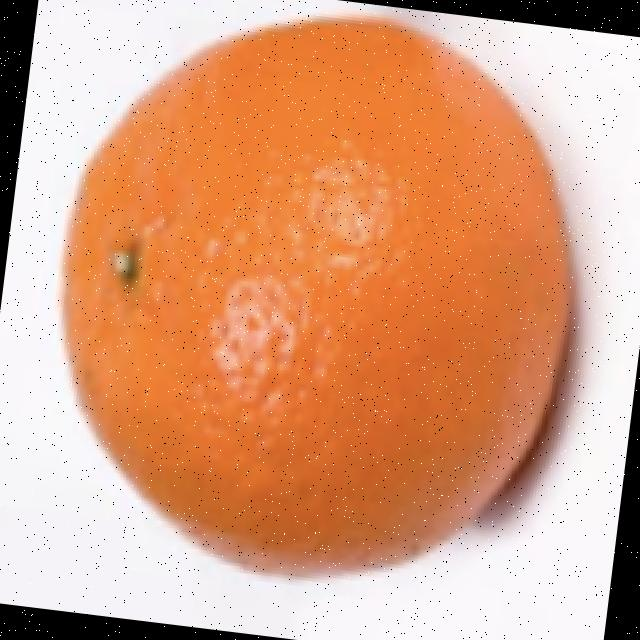orange: (18, 0, 604, 615)
